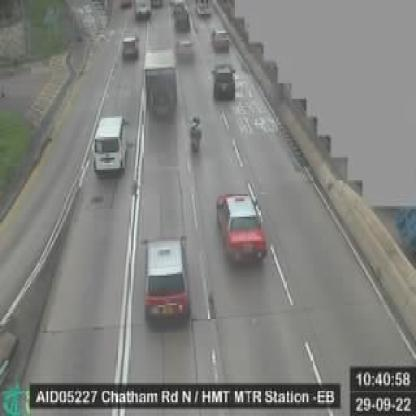Car: (136, 226, 192, 330), (210, 189, 270, 272), (87, 113, 130, 173), (205, 61, 243, 102), (118, 26, 138, 64), (208, 26, 235, 54), (173, 38, 197, 61), (169, 9, 194, 26)
Truck: (141, 47, 176, 126)
